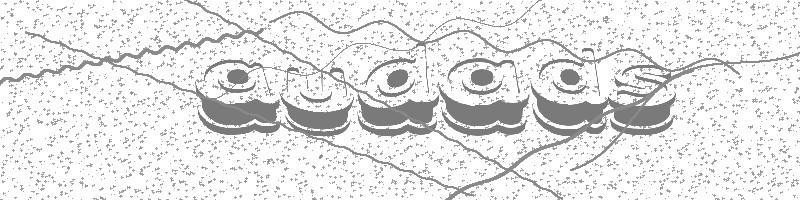a: (438, 57, 531, 136), (195, 59, 282, 136)
d: (357, 42, 442, 138), (530, 47, 609, 137)
s: (609, 64, 678, 137)
u: (279, 65, 356, 138)
